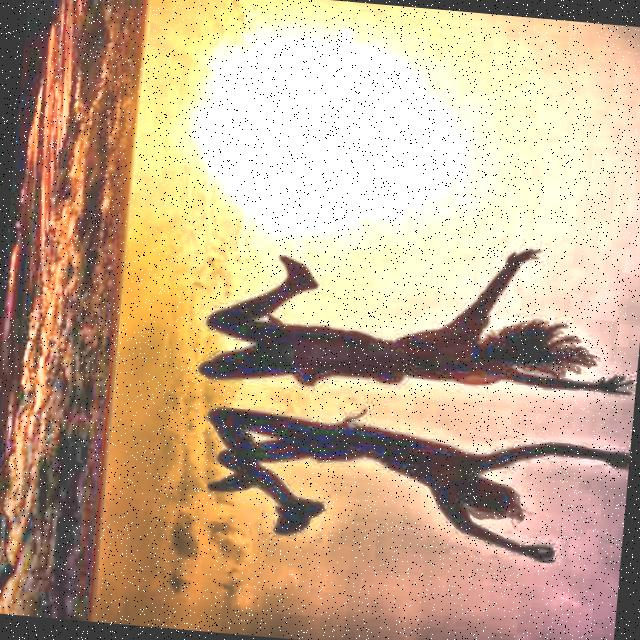happy: (486, 315, 594, 388), (451, 474, 530, 520)
